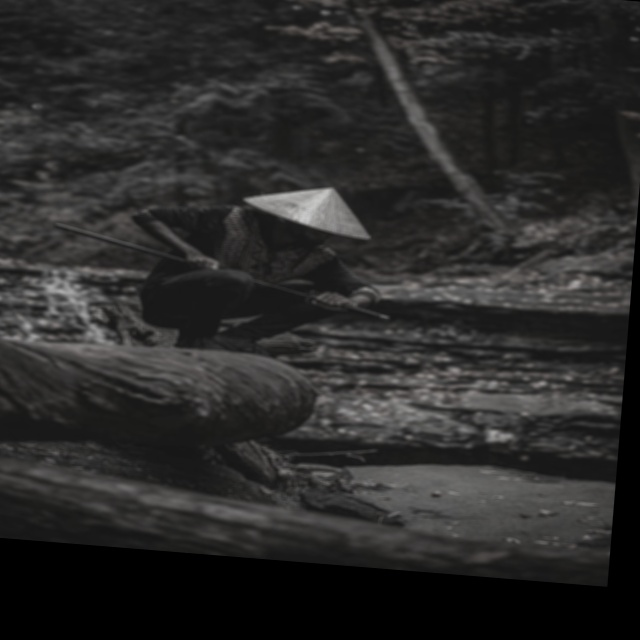Sharp-Object: (42, 219, 405, 329)
